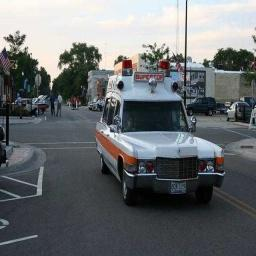Ambulance: (95, 60, 224, 204)
